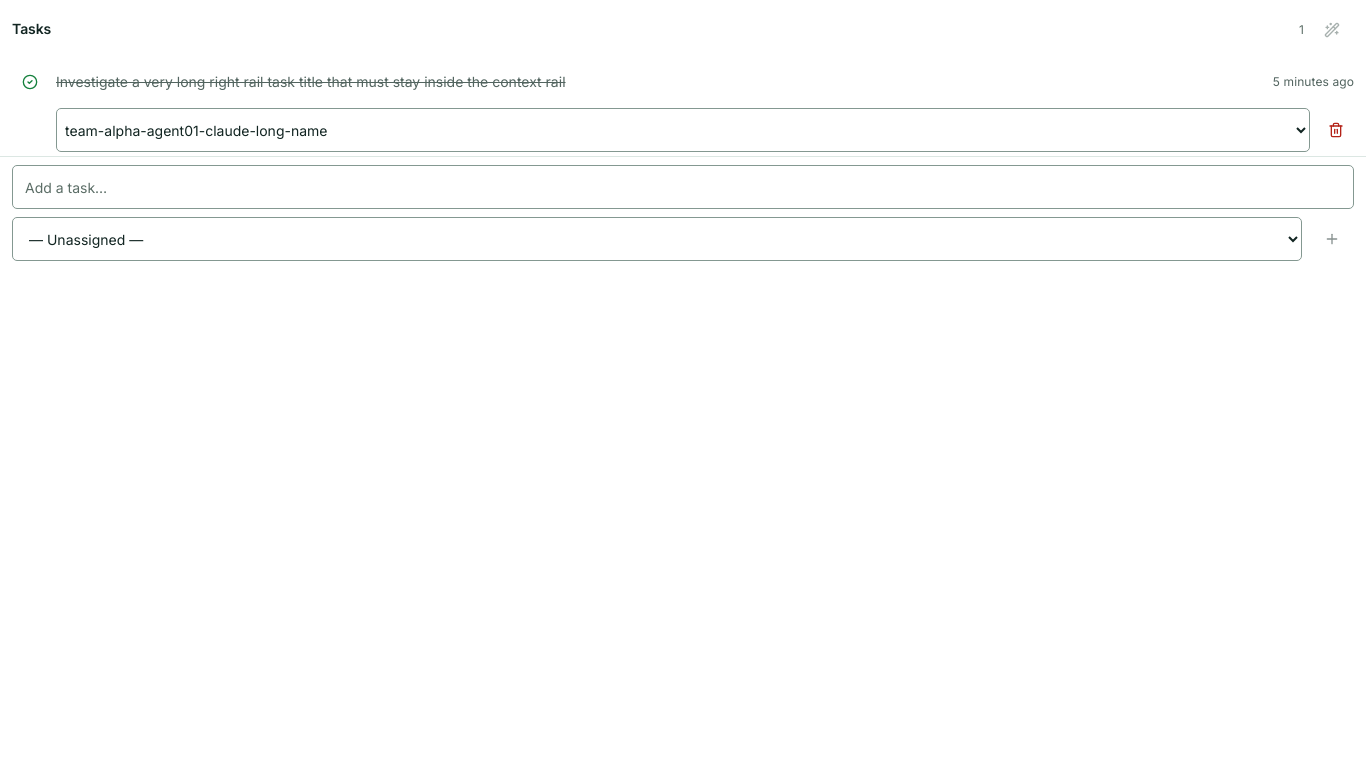
Test: TasksSection detail dialog › puts failed attempts on the timeline of finished work
Click the button with aria-label "Open Investigate a very long right rail task title that must".
click(311, 82)  # box [56,60,1269,104]
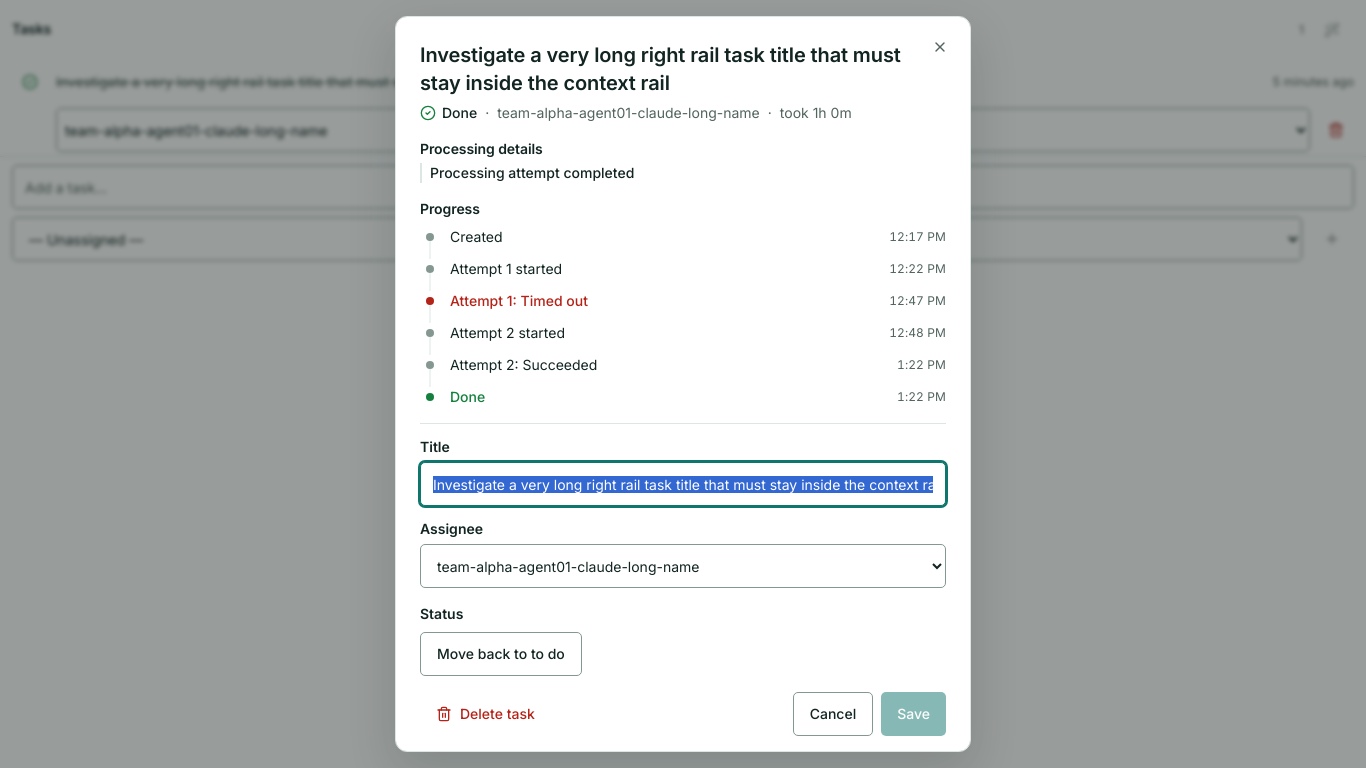
Now the element with test id "right-rail-task-timeline-task-1" shows "Attempt 1 started", box [450,260,562,277]
Now the element with test id "right-rail-task-timeline-task-1" shows "Attempt 2 started", box [450,324,565,341]
Now the list item "Done 1:22 PM" is shown, box [420,387,946,407]
